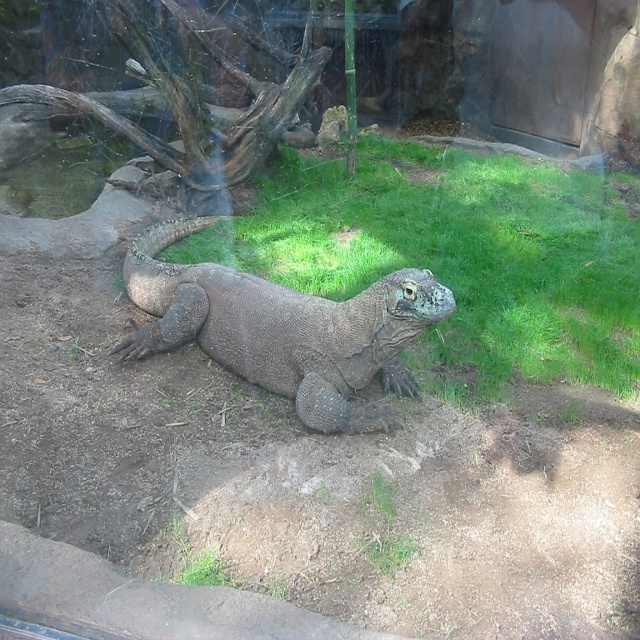Lizard: (106, 211, 459, 438)
